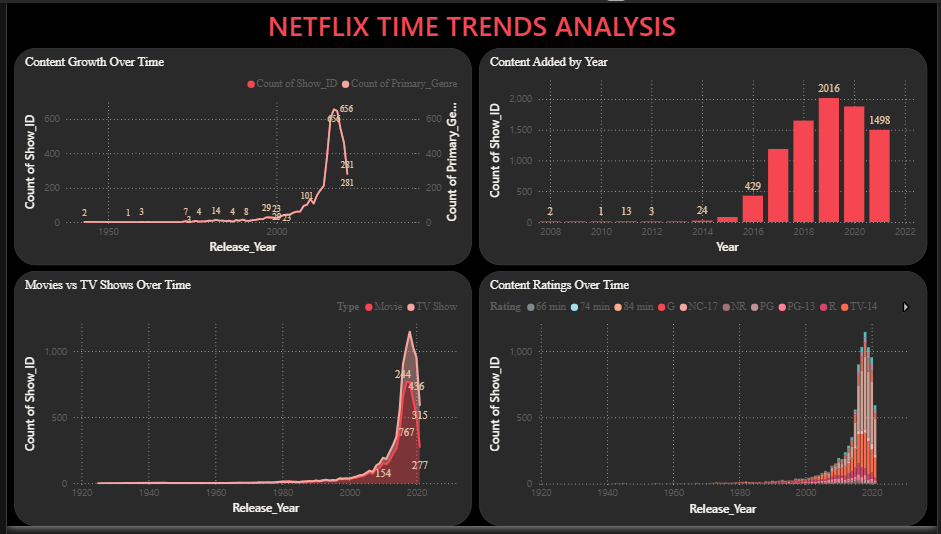

The dashboard page shown, as its layout file describes it:
{"tool":"powerbi","page":{"name":"Time Trends","canvas":[1280,720],"ordinal":3},"visuals":[{"type":"stackedAreaChart","title":"Movies vs TV Shows Over Time","fields":{"Category":["netflix_titles (Autosaved).Release_Year"],"Y":["CountNonNull(netflix_titles (Autosaved).Show_ID)"],"Series":["netflix_titles (Autosaved).Type"]},"box":[10,369,630,351],"z":1000},{"type":"clusteredColumnChart","title":"Content Added by Year","fields":{"Category":["netflix_titles (Autosaved).Date_Added.Variation.Date Hierarchy.Year"],"Y":["CountNonNull(netflix_titles (Autosaved).Show_ID)"]},"box":[650,61.4,617.1,298.6],"z":2000},{"type":"columnChart","title":"Content Ratings Over Time","fields":{"Category":["netflix_titles (Autosaved).Release_Year"],"Y":["CountNonNull(netflix_titles (Autosaved).Show_ID)"],"Series":["netflix_titles (Autosaved).Rating"]},"box":[650,368.6,617.1,351.4],"z":3000},{"type":"lineChart","title":"Content Growth Over Time","fields":{"Category":["netflix_titles (Autosaved).Release_Year"],"Y":["CountNonNull(netflix_titles (Autosaved).Show_ID)"],"Y2":["CountNonNull(netflix_titles (Autosaved).Primary_Genre)"]},"box":[10,61.4,630,298.6],"z":4000},{"type":"textbox","box":[0,0,1280,72.9],"z":4001}]}

Visuals, with their boxes in screenshot pixels (x1, y1, x2, y2), scaled from the page's 1280x720 canvas onto the 941x534 screenshot:
"Movies vs TV Shows Over Time" stackedAreaChart: <region>7, 274, 470, 533</region>
"Content Added by Year" clusteredColumnChart: <region>478, 46, 932, 267</region>
"Content Ratings Over Time" columnChart: <region>478, 273, 932, 533</region>
"Content Growth Over Time" lineChart: <region>7, 46, 470, 267</region>
textbox: <region>0, 0, 940, 54</region>
